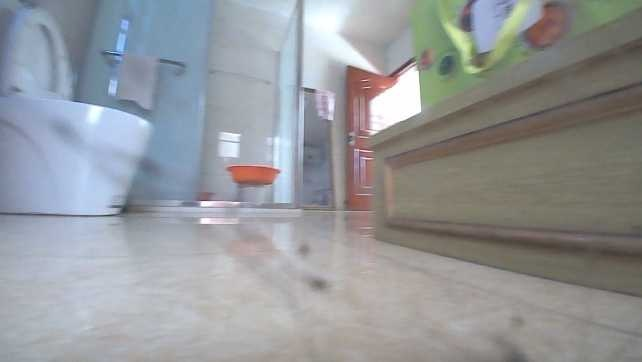toilet: (0, 7, 154, 217)
